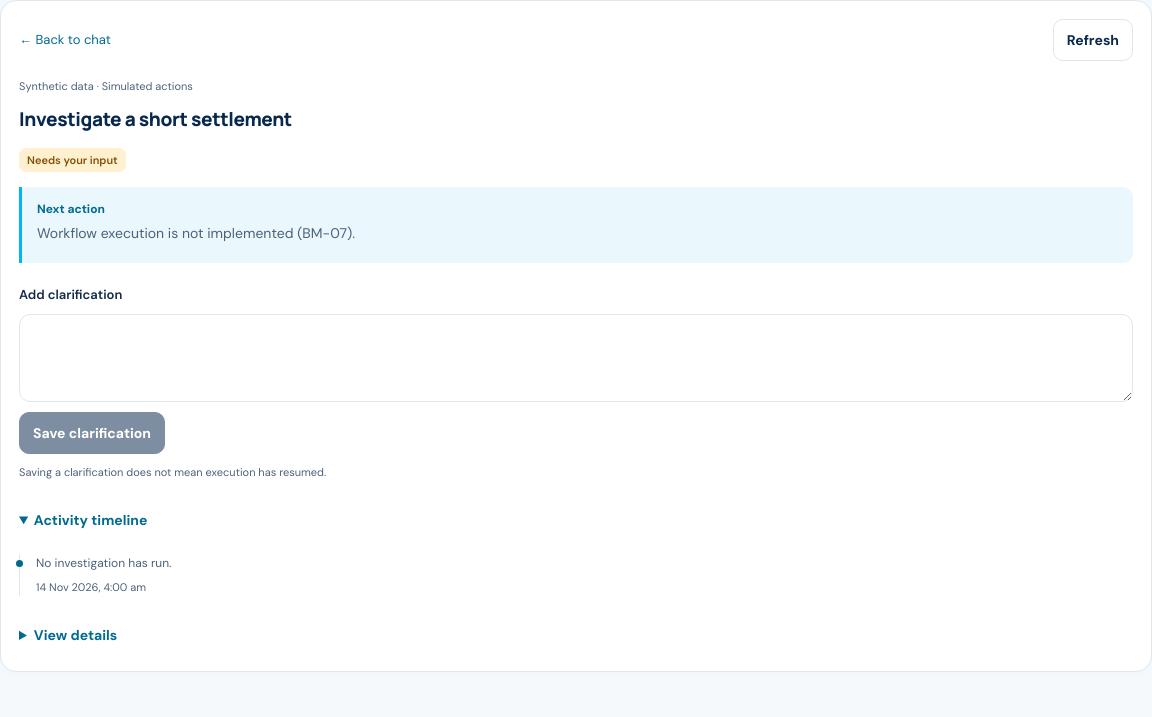
Test: supports clarification without inventing a resumed or completed state
The image size is (1152, 717).
In the text box labelled "Add clarification": (576, 358) [19,314,1133,402], type "  Yesterday, please.  "
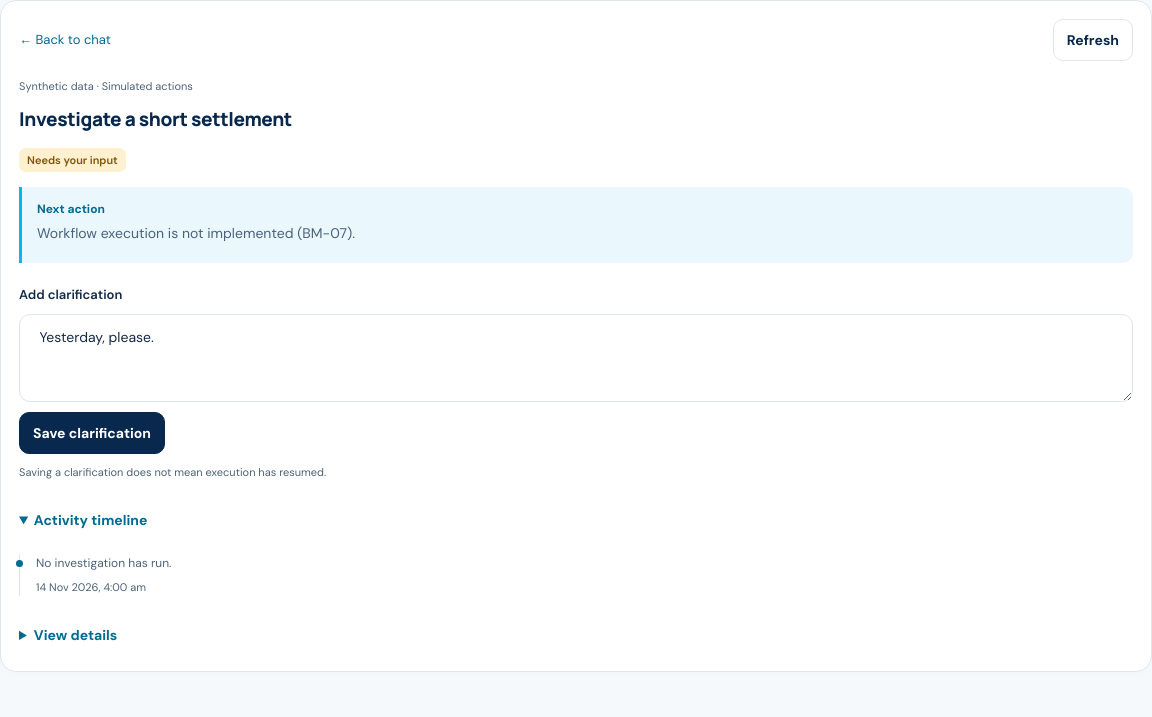
Click the button "Save clarification": click(92, 433) [19,412,165,454]
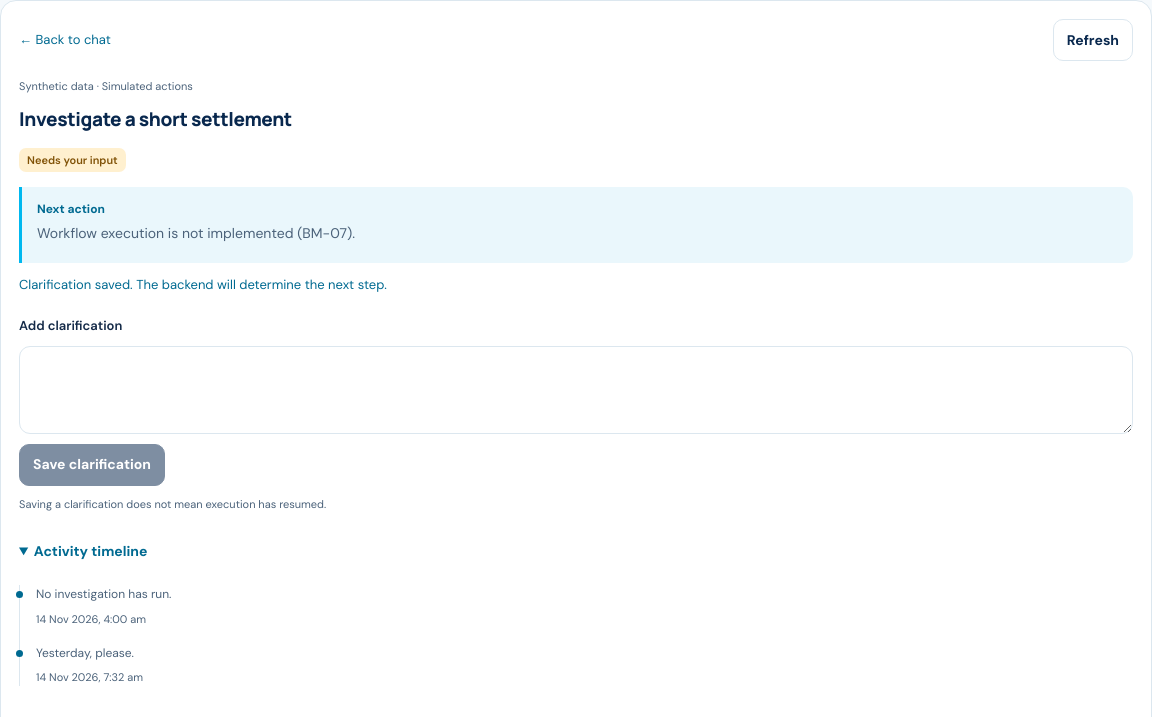
Expected: the text "Needs your input" is shown, [19,148,126,172]
Result: the text "Yesterday, please." is shown at [36,645,134,661]
